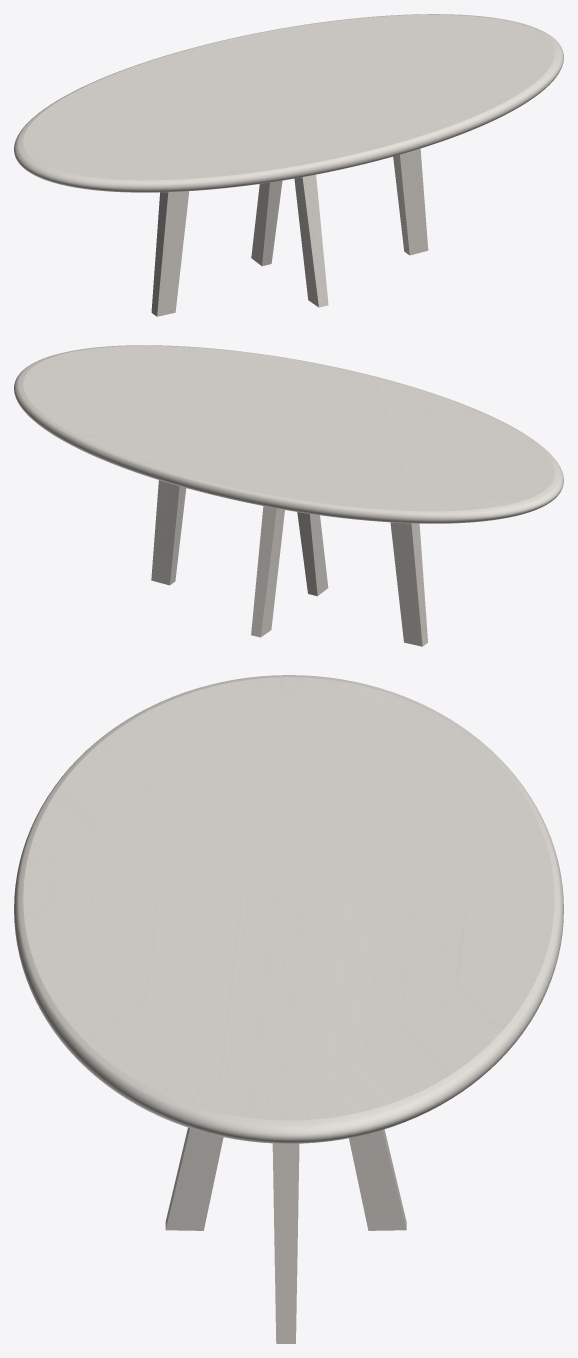
Rendered from pearlwhite_ellips_round_searwalnut.glb.
3 renders of one model, top to bottom at view 1: azimuth 30°, elevation 25°; view 2: azimuth 150°, elevation 25°; view 3: azimuth 270°, elevation 25°, orthographic. The views are drawn at different scales.
Parts seen in each view (by area): view 1: round_ellips, searwalnut; view 2: round_ellips, searwalnut; view 3: round_ellips, searwalnut.
Part boxes in pixels (x1,y1,x2,y2): round_ellips: (14, 14, 563, 192); searwalnut: (151, 148, 428, 316); round_ellips: (14, 345, 563, 523); searwalnut: (151, 480, 427, 646); round_ellips: (14, 675, 563, 1143); searwalnut: (165, 1127, 406, 1343).
Bounding box in the file's own units: 7.5 × 2.5 × 3.8.
1 material, 1 textured.
